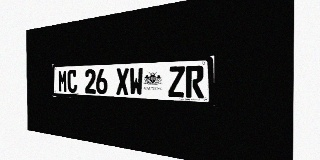2: (85, 69, 96, 94)
6: (96, 69, 107, 94)
C: (67, 69, 77, 93)
M: (58, 70, 67, 93)
R: (186, 65, 204, 98)
W: (129, 67, 143, 96)
X: (116, 68, 129, 95)
Z: (168, 66, 185, 97)
